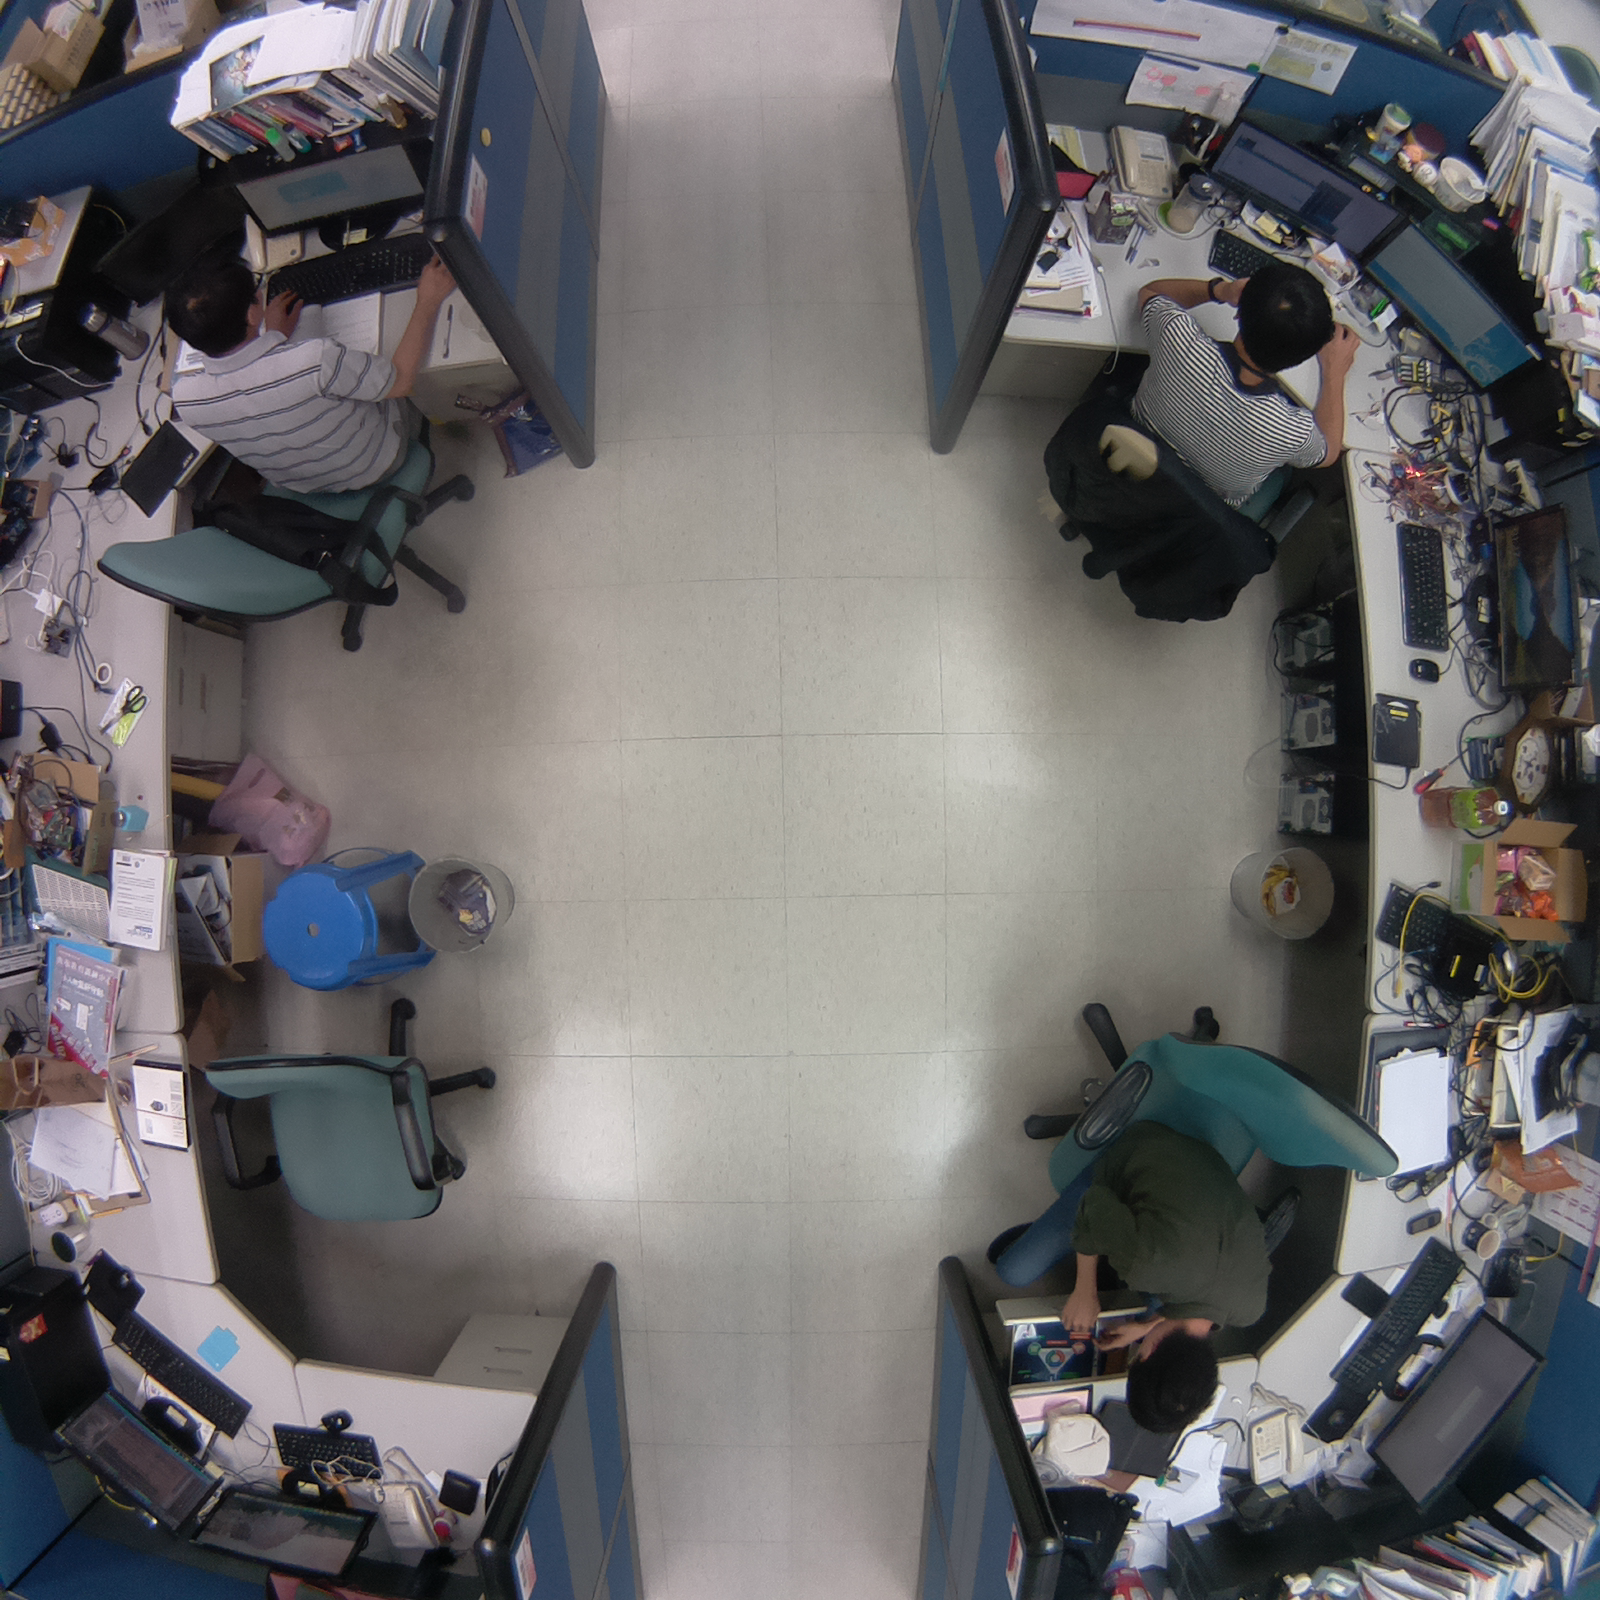chair: (188, 975, 524, 1242)
head: (153, 245, 272, 353), (1122, 1317, 1222, 1440), (1233, 261, 1339, 367)
sitting: (968, 978, 1401, 1450), (88, 232, 514, 673), (1032, 252, 1378, 634)
